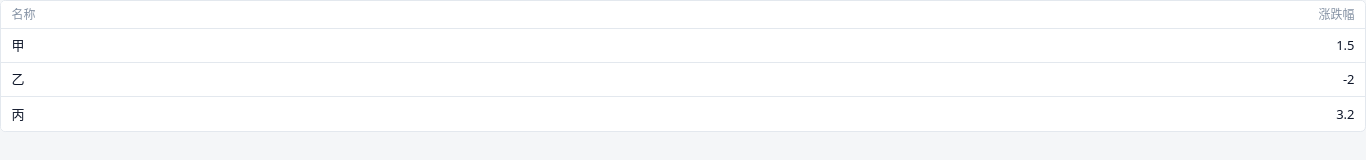
DataTable › renders rows and sorts by header click (descending first)
Later steps or results of the test are not shown.
Click the button "涨跌幅". click: (1336, 14)
box: x1=1318 y1=6 x2=1354 y2=23
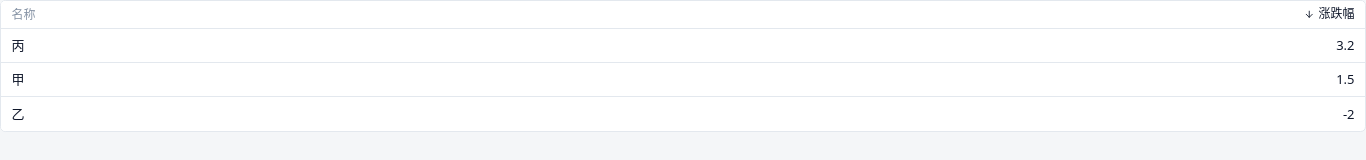
Expected: the column heading "涨跌幅" has attribute aria-sort="descending", x1=530 y1=1 x2=1365 y2=29
